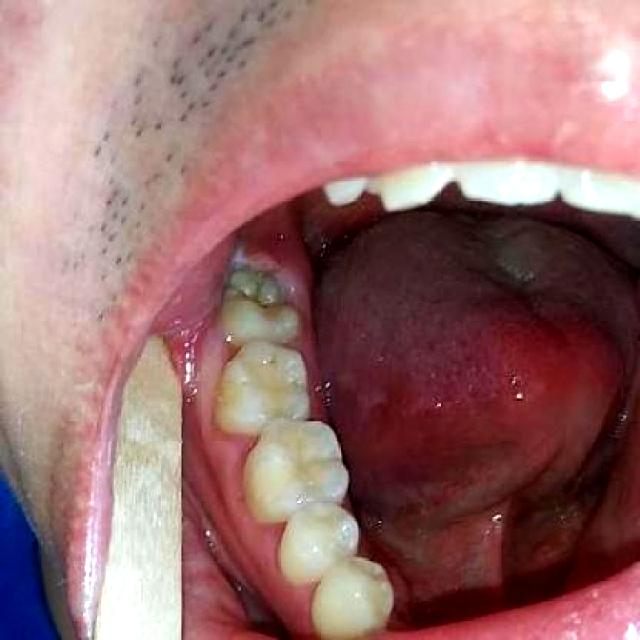Plaque: (221, 266, 286, 316), (228, 249, 286, 280), (260, 354, 280, 366)
